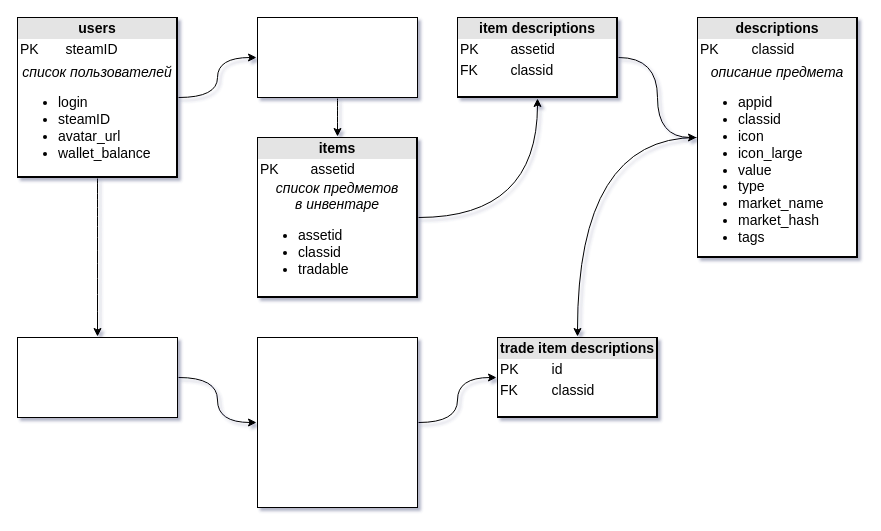
This 881x531 diagram has some shape labels left out. Here are the shapes that lost their labels. From the top down, the centre of each, then its label:
At point (337, 57): "user items PK steamID FK assetid".
At point (97, 377): "user trade history PK steamID FK id".
At point (337, 422): "trade history PK id история торговли id classid date gainorloss price".
